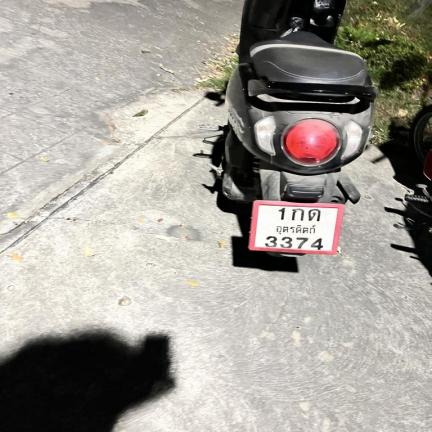1: (276, 206, 286, 220)
3: (263, 234, 277, 248), (278, 235, 293, 248)
4: (310, 236, 324, 250)
7: (294, 235, 309, 249)
A01: (290, 207, 305, 221)
A20: (307, 208, 321, 222)
UTT: (274, 224, 318, 235)
